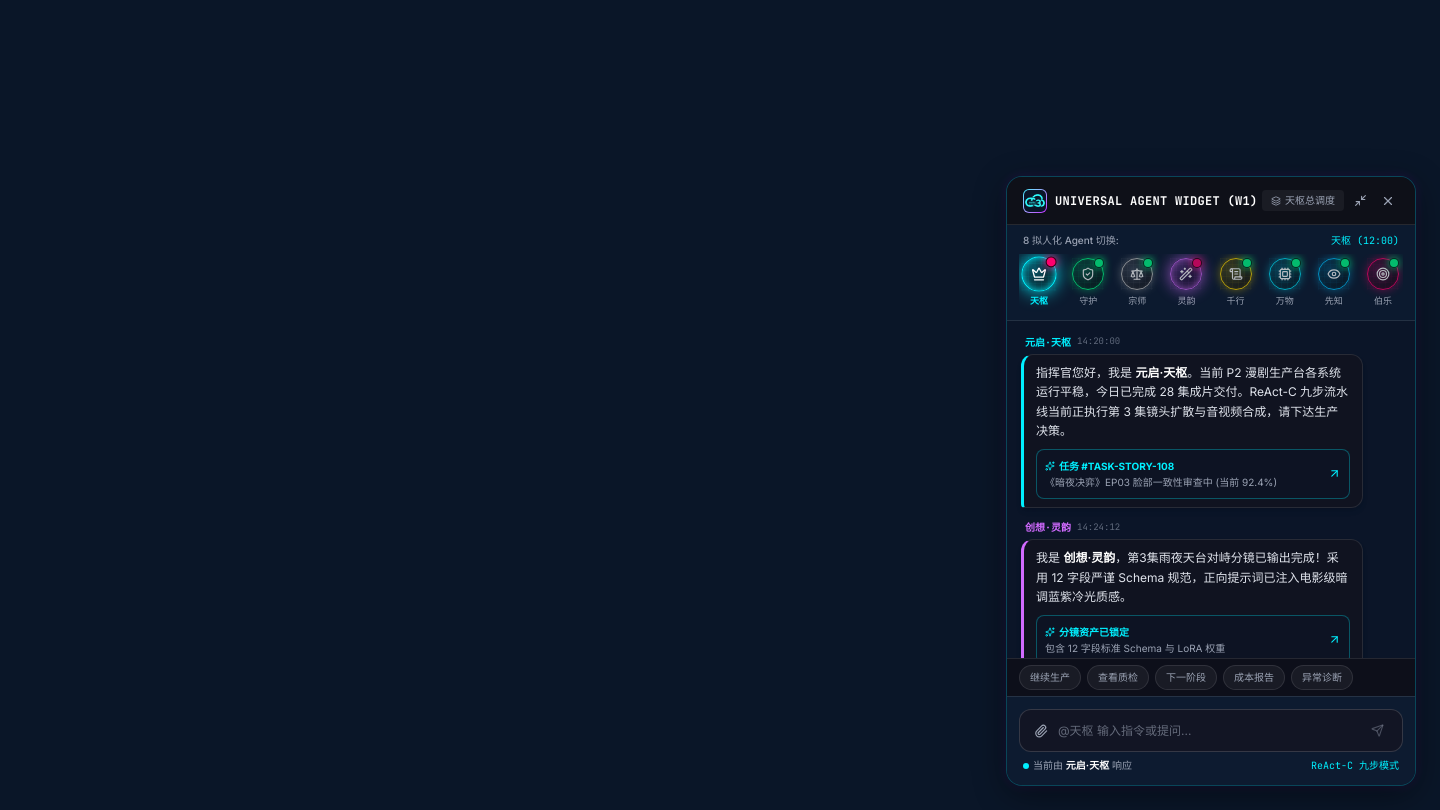
Test case: W1 人工接管卡片（PR7 全链路） › 接管消息持久化至 localStorage（刷新恢复语义）
Click the button "查看质检" at (1118, 678), box [1087, 665, 1149, 690]
(page scrolled)
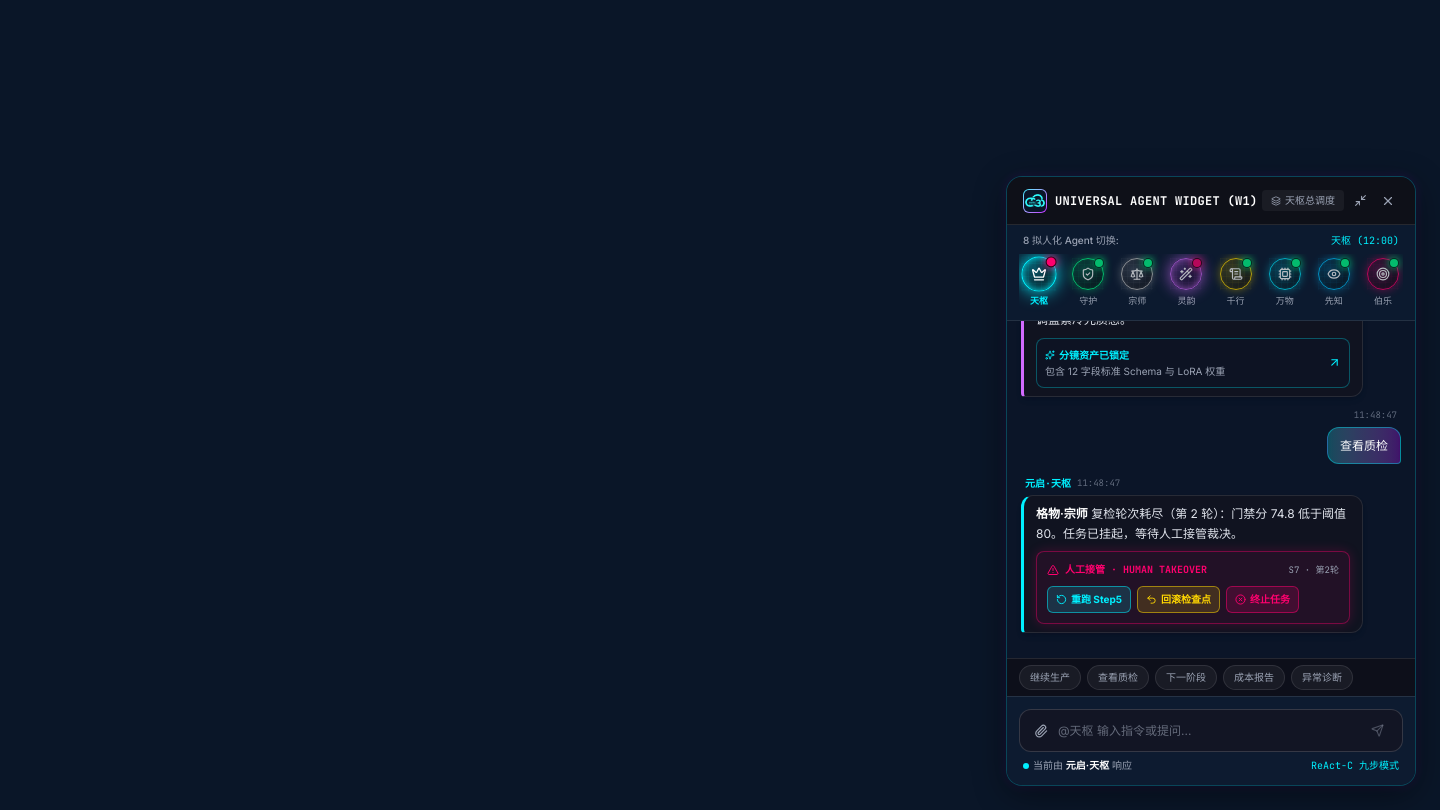
Check: the text "人工接管 · HUMAN TAKEOVER" is shown, box [1065, 562, 1207, 578]
